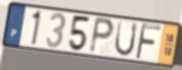1: (31, 10, 43, 47)
3: (45, 12, 68, 50)
5: (66, 13, 94, 53)
F: (134, 22, 162, 61)
P: (87, 15, 116, 56)
U: (113, 20, 139, 58)
